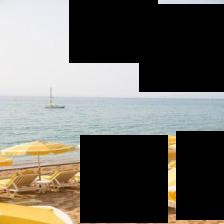yellow: (143, 154, 224, 210), (91, 142, 180, 166), (0, 204, 74, 224), (0, 142, 76, 156), (78, 138, 131, 151), (136, 135, 188, 146), (185, 133, 224, 143)
